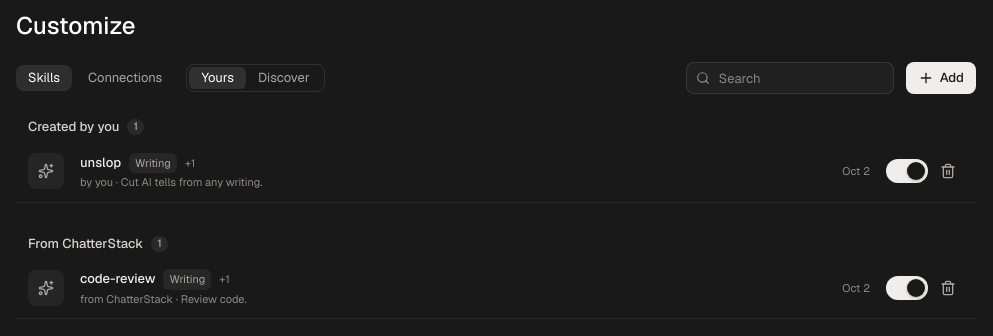
Customize → Skills → Yours › filters with search
The image size is (993, 336).
Check: the text "unslop" is shown, box x1=80 y1=154 x2=121 y2=172
In the search field named "Search skills": (790, 78) x1=686 y1=62 x2=894 y2=94, type "review"
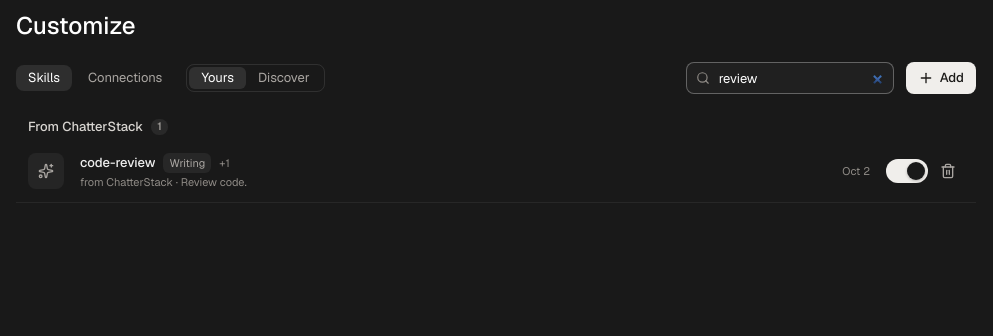
Check: the text "code-review" is shown, box x1=80 y1=154 x2=155 y2=172
Check: the text "unslop" is gone
